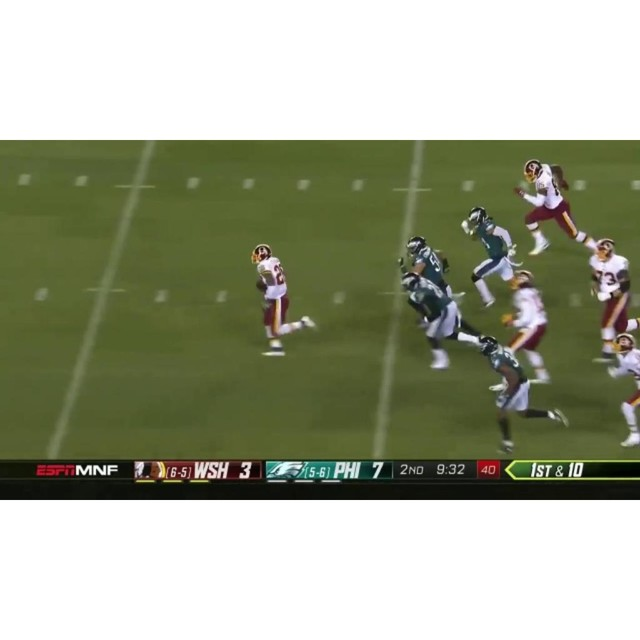american-football-player: (478, 335, 570, 451), (399, 270, 481, 370), (251, 244, 319, 355), (518, 159, 588, 257), (583, 240, 640, 356), (499, 272, 557, 382), (460, 208, 521, 308), (604, 333, 640, 449), (403, 234, 452, 297)
